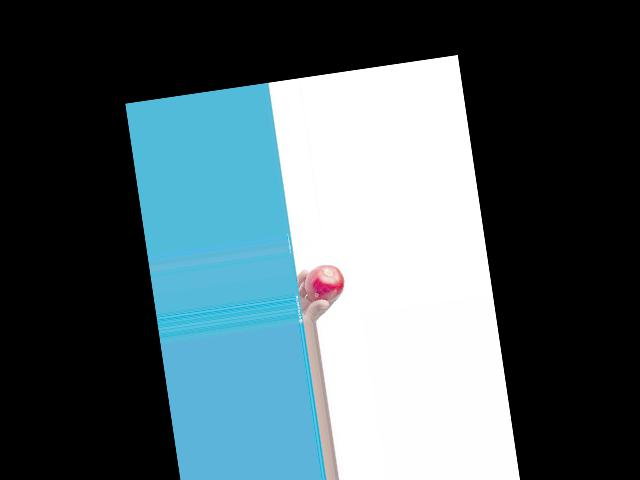tomato: (301, 262, 346, 305)
